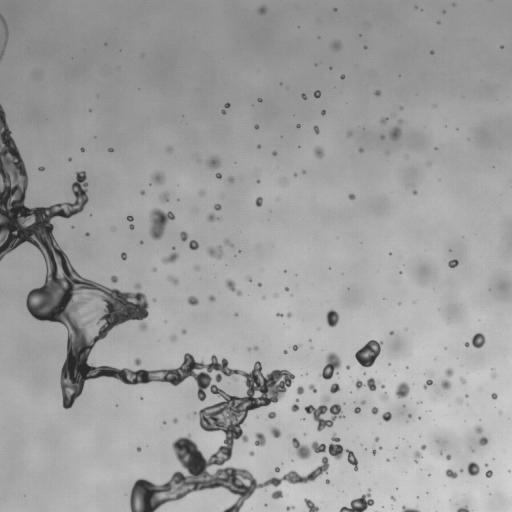droplet: (304, 404, 344, 431), (149, 208, 174, 240), (355, 340, 382, 367), (320, 352, 341, 379), (464, 333, 485, 348), (207, 245, 223, 259), (395, 382, 409, 398), (326, 310, 339, 327), (162, 251, 178, 264), (151, 171, 165, 185), (207, 156, 220, 168), (467, 462, 479, 475), (254, 432, 265, 446), (390, 126, 401, 139), (270, 427, 281, 437), (314, 146, 323, 158), (445, 469, 457, 478), (271, 490, 283, 499), (291, 399, 299, 412), (187, 296, 198, 305), (331, 40, 340, 50), (448, 259, 458, 268), (330, 383, 339, 393), (207, 213, 218, 221), (167, 276, 178, 284), (414, 451, 422, 462), (189, 240, 198, 249), (382, 412, 391, 421), (160, 192, 168, 201), (180, 231, 187, 241), (258, 6, 266, 14), (479, 437, 487, 445), (255, 197, 262, 206), (381, 392, 388, 401), (309, 384, 316, 392), (268, 411, 276, 418), (380, 117, 387, 124), (322, 395, 329, 402), (371, 407, 378, 414), (485, 470, 492, 477), (314, 90, 320, 98), (313, 125, 319, 133), (297, 386, 303, 394), (214, 204, 221, 210), (208, 295, 215, 301), (140, 322, 146, 329), (134, 358, 140, 365), (475, 427, 482, 433), (121, 252, 126, 260), (286, 506, 294, 511), (127, 215, 133, 221), (111, 276, 117, 282), (491, 393, 497, 399), (354, 407, 360, 413), (228, 176, 233, 183), (348, 194, 355, 199), (301, 93, 306, 99), (170, 335, 176, 340), (293, 345, 299, 350), (421, 444, 426, 450), (276, 312, 283, 316), (375, 90, 380, 95), (225, 103, 230, 108), (347, 131, 352, 136), (216, 173, 221, 178), (199, 190, 204, 195), (129, 224, 134, 229), (460, 378, 465, 383), (457, 398, 462, 403), (166, 147, 171, 151), (39, 166, 44, 170), (287, 312, 291, 317), (173, 418, 177, 423), (374, 437, 378, 442), (372, 449, 376, 454), (249, 451, 254, 455), (446, 454, 450, 459), (275, 467, 279, 472), (325, 479, 329, 484), (340, 75, 344, 79), (221, 109, 225, 113), (321, 110, 325, 114), (254, 125, 258, 129), (359, 148, 363, 152), (272, 151, 276, 155), (413, 190, 417, 194), (85, 232, 89, 236), (182, 329, 186, 333), (254, 346, 258, 350), (361, 400, 365, 404), (137, 447, 141, 451), (391, 496, 395, 500), (258, 98, 262, 101), (380, 135, 384, 138), (81, 147, 84, 151), (108, 148, 112, 151), (141, 190, 144, 194), (247, 278, 251, 281), (285, 287, 288, 291), (247, 348, 251, 351), (283, 350, 287, 353), (346, 365, 349, 369), (430, 51, 433, 54), (297, 124, 300, 127), (302, 170, 305, 173), (153, 268, 156, 271), (258, 283, 261, 286), (390, 331, 393, 334), (408, 414, 411, 417), (334, 8, 336, 11), (500, 46, 503, 48), (399, 120, 401, 123), (257, 145, 260, 147), (68, 158, 71, 160), (294, 173, 296, 176), (140, 241, 143, 243), (196, 266, 198, 269), (153, 298, 155, 301), (235, 313, 237, 316), (492, 374, 495, 376), (460, 469, 463, 471), (364, 46, 366, 48), (400, 107, 402, 109), (257, 180, 259, 182), (379, 446, 381, 448), (440, 451, 442, 453), (485, 463, 487, 465)
ligament: (0, 105, 325, 511), (292, 434, 358, 470), (339, 489, 374, 511), (355, 377, 385, 390), (0, 14, 8, 59), (441, 368, 453, 389), (226, 280, 241, 295), (304, 498, 319, 511), (423, 378, 433, 388), (401, 506, 419, 511), (456, 506, 469, 511), (225, 239, 233, 246)
